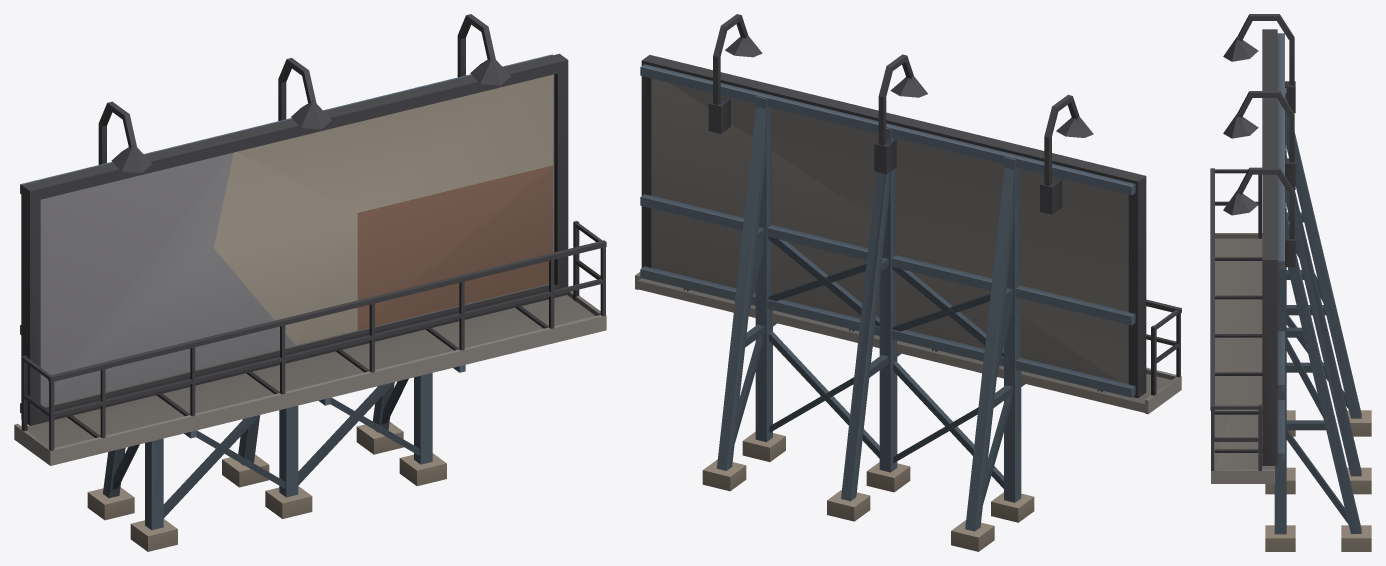
File: billboard.glb
The picture shows the model from 3 angles, left to right: view 1: azimuth 30°, elevation 25°; view 2: azimuth 150°, elevation 25°; view 3: azimuth 270°, elevation 25°; orthographic projection. The views are drawn at different scales.
Parts seen in each view (by area): view 1: billboard; view 2: billboard; view 3: billboard.
Part boxes in pixels (x1,y1,x2,y2): billboard: [14, 14, 606, 551]; billboard: [635, 14, 1181, 551]; billboard: [1210, 14, 1371, 551].
Bounding box in the file's own units: 7.44 × 5.77 × 2.12.
